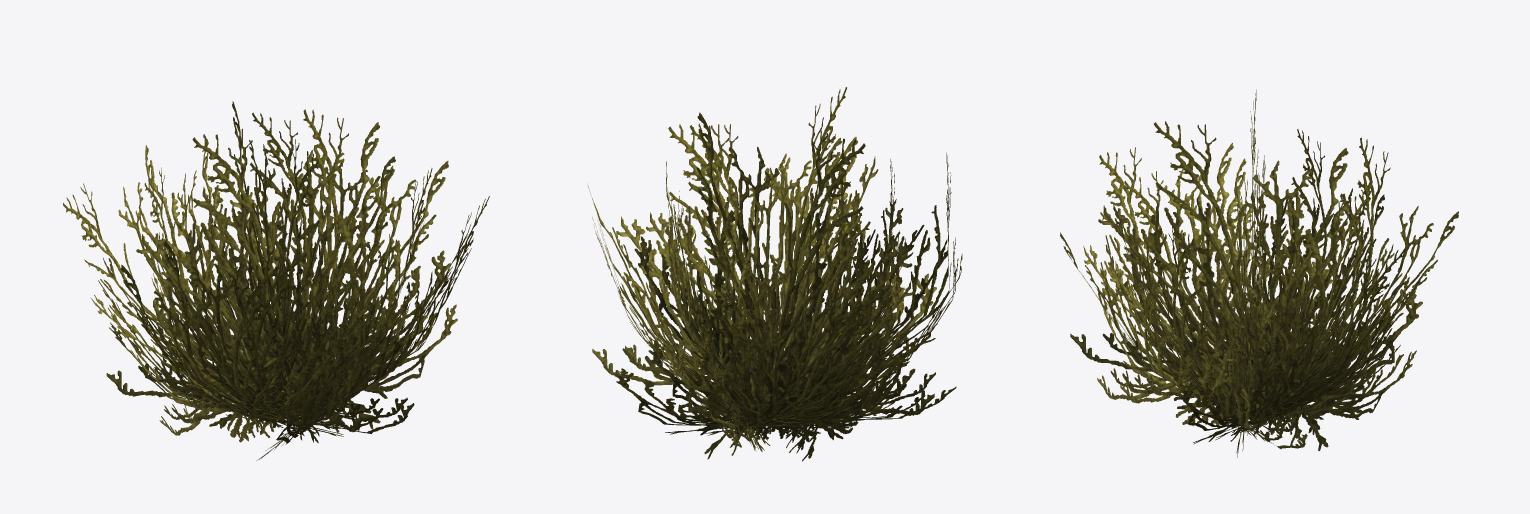
The model's file is yw_leinabao_guanmu02.FBX.
3 views of the same model, side by side, from view 1: azimuth 30°, elevation 25°; view 2: azimuth 150°, elevation 25°; view 3: azimuth 270°, elevation 25° (orthographic). The views are drawn at different scales.
Visible parts, largest first — view 1: yw_leinabao_guanmu02; view 2: yw_leinabao_guanmu02; view 3: yw_leinabao_guanmu02.
Boxes of the visible parts, box(x1,y1,x2,y2) form: yw_leinabao_guanmu02: box(63, 101, 489, 460); yw_leinabao_guanmu02: box(588, 87, 962, 461); yw_leinabao_guanmu02: box(1060, 89, 1458, 457).
Size of the model in its own units: 187 by 136 by 191.
